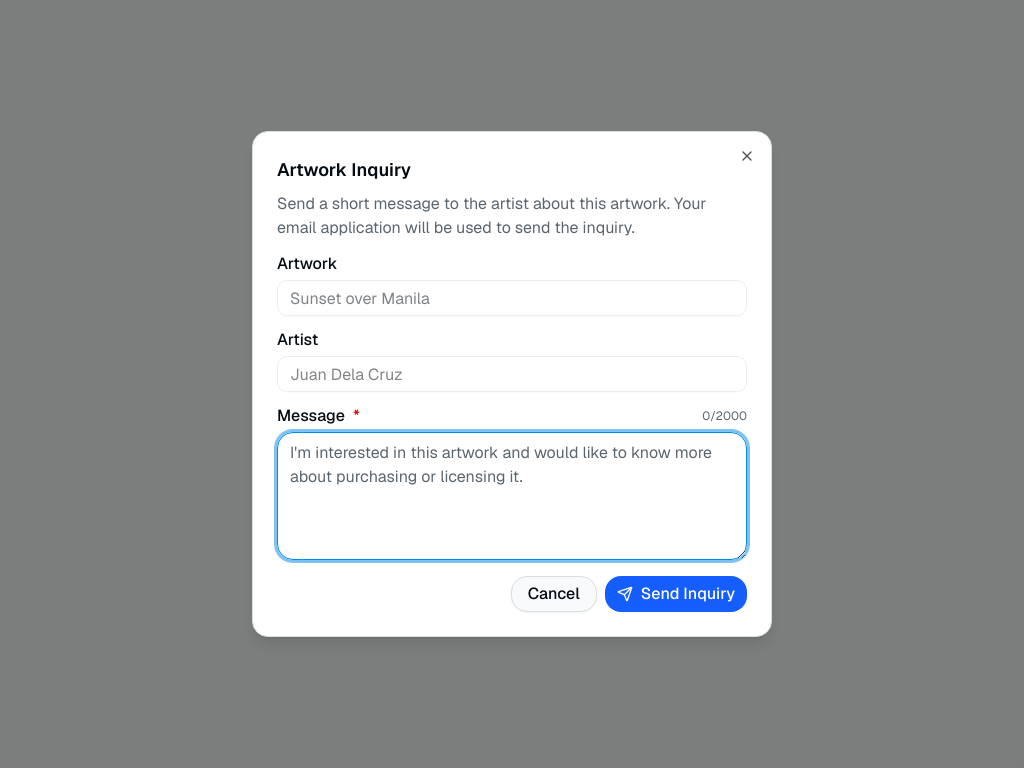
Test: ContactArtistModal › sends a valid message and shows success
This screenshot has width=1024, height=768.
Replace the text in the text box labelled "Message *" with "I would like to license this artwork.": (512, 496) [277,432,747,560]
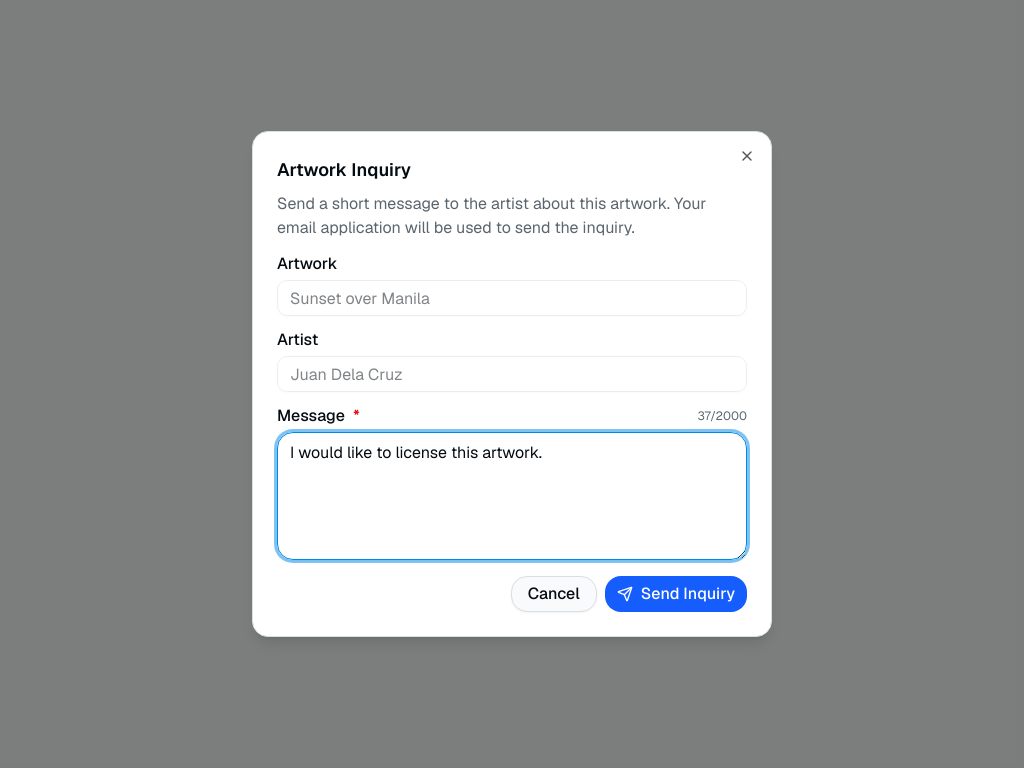
Click the button "Send Inquiry": (676, 594) [605,576,747,612]
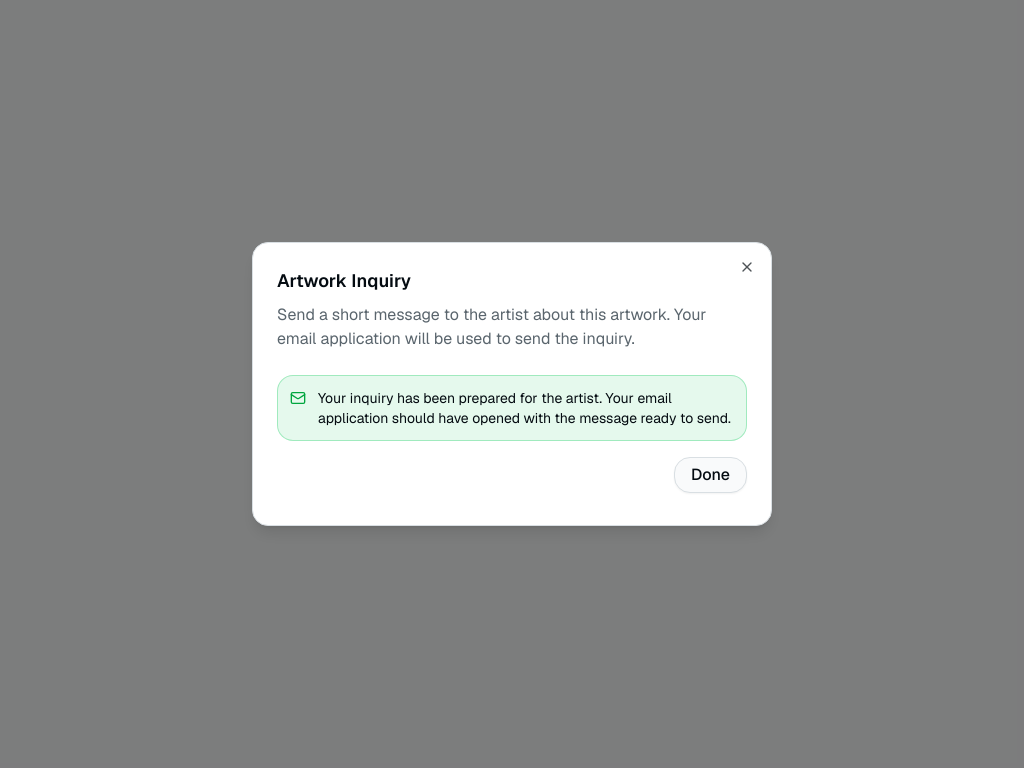
Expected: the text "Your inquiry has been prepared for the artist" is shown, [318,389,731,427]
